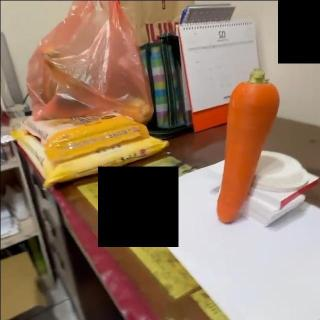carrot: (215, 69, 280, 223)
